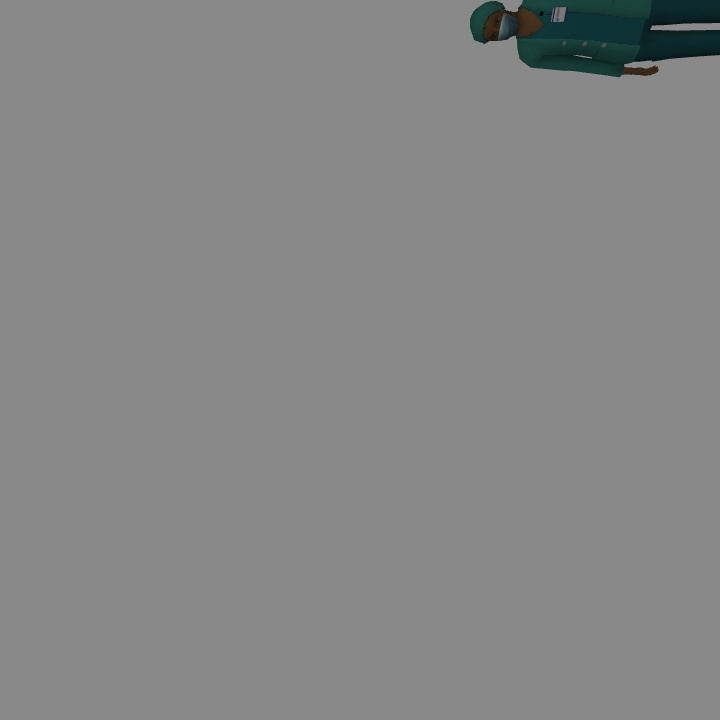victim: (471, 4, 720, 76)
